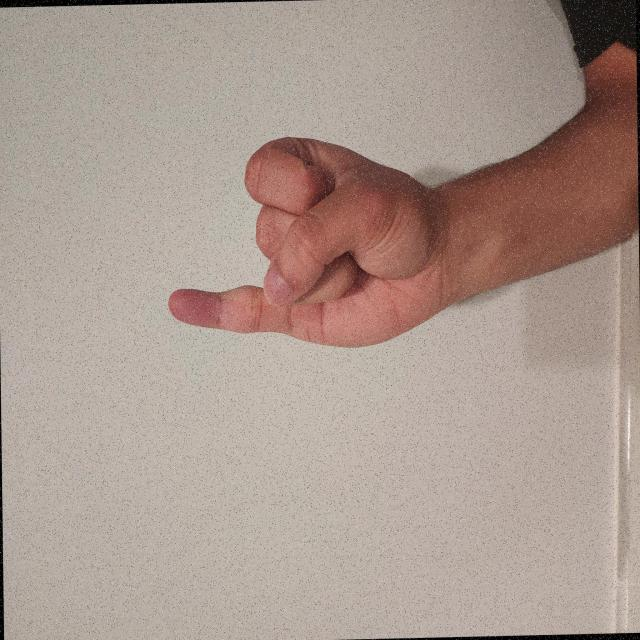I: (212, 217, 385, 602)
